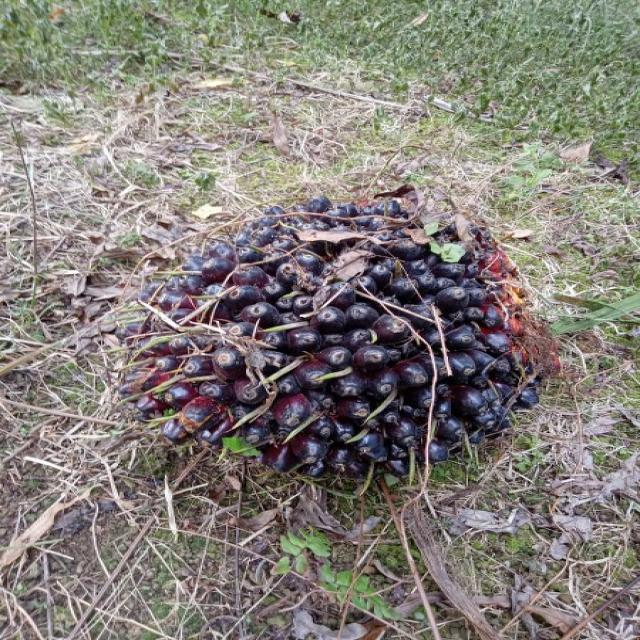fraksi 00: (112, 193, 548, 487)
